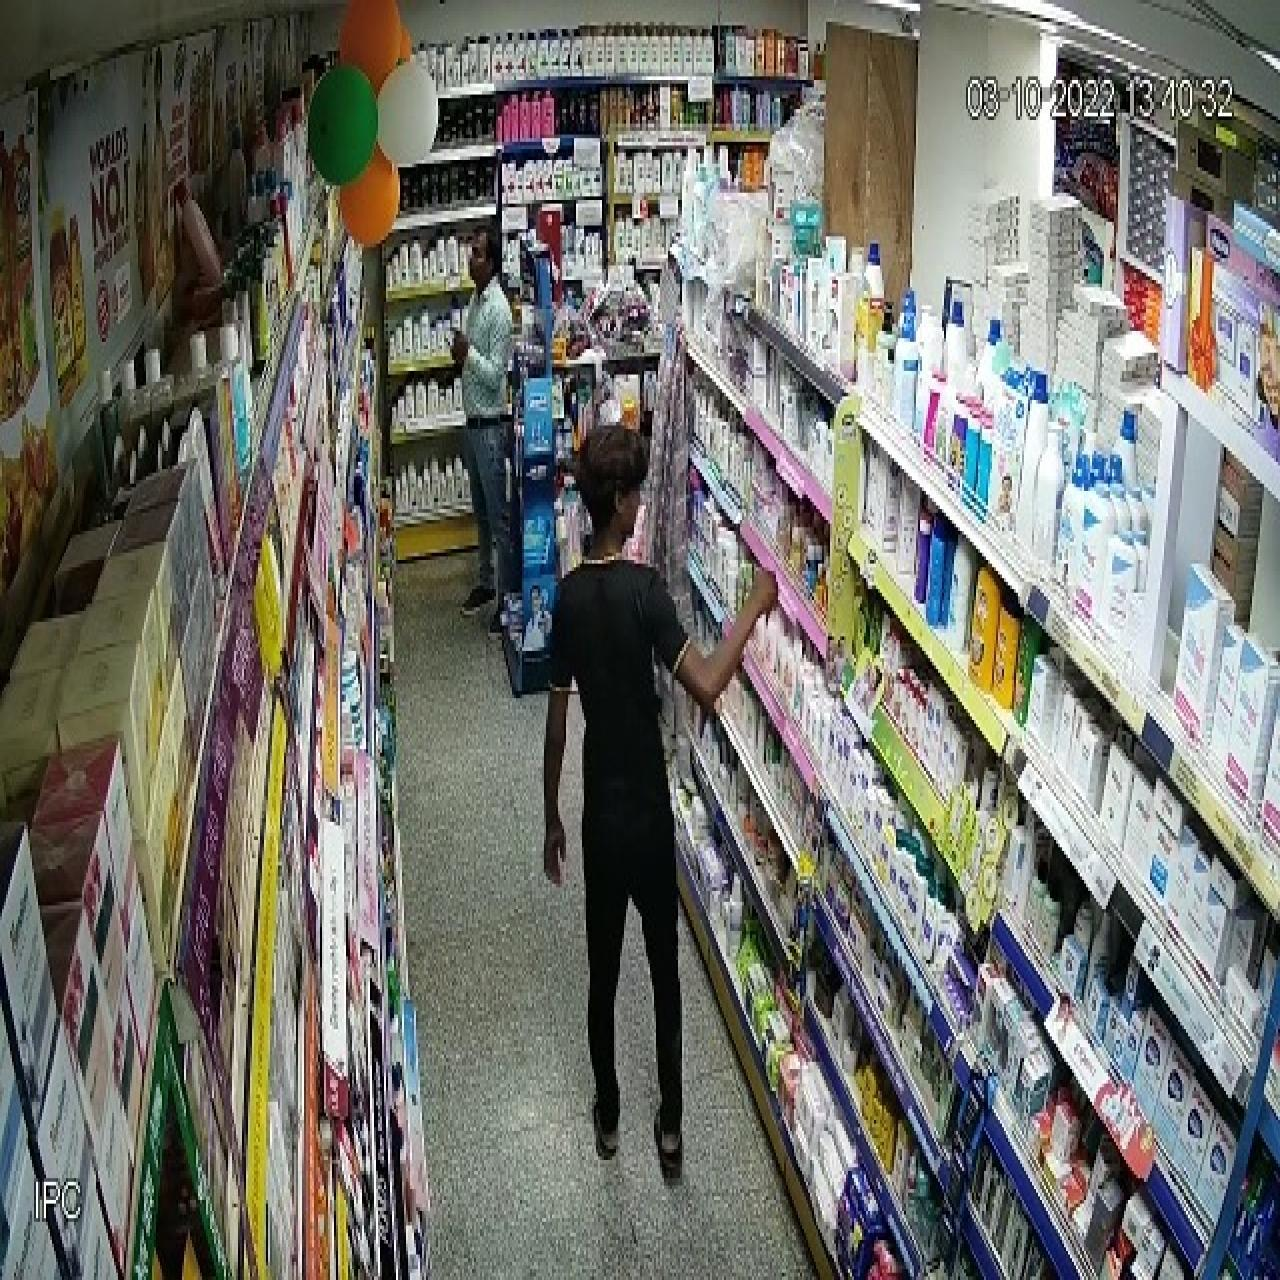normal: (501, 388, 788, 1179)
